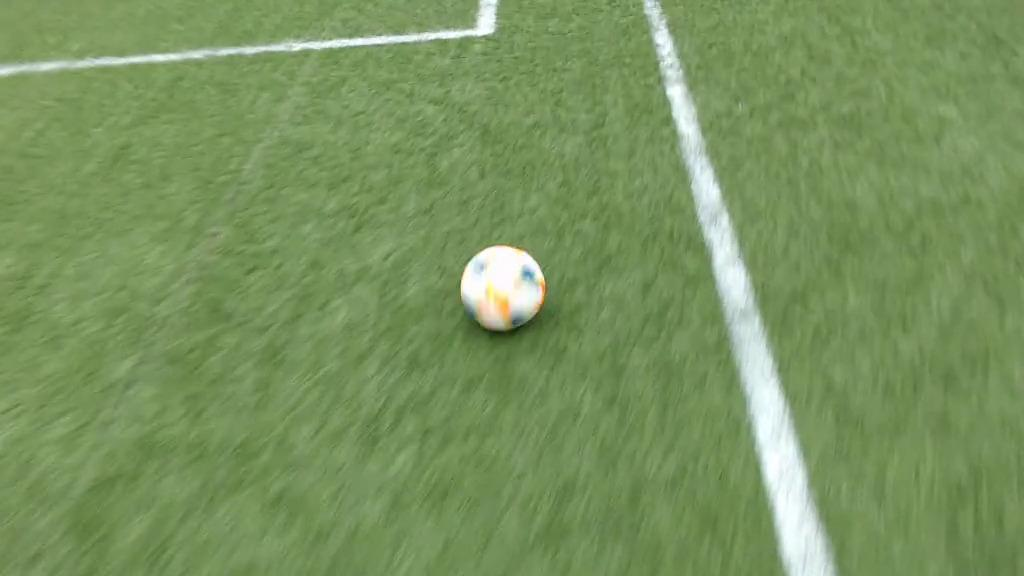ball: (461, 244, 546, 334)
